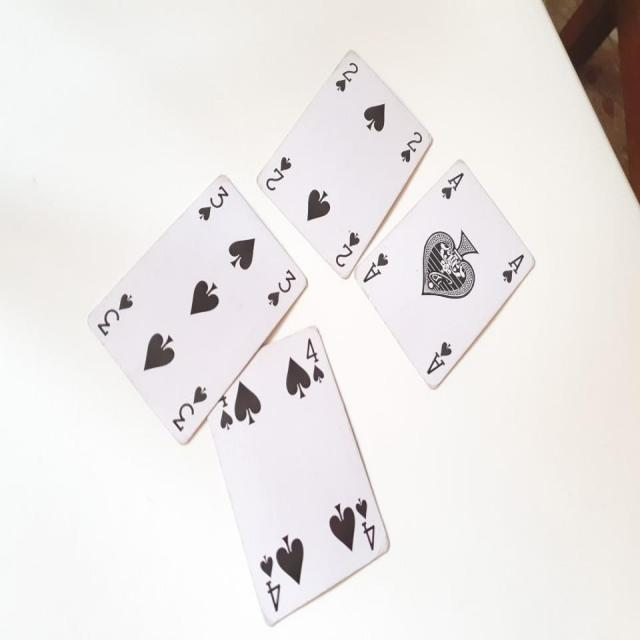2 of spades: (256, 49, 435, 279)
3 of spades: (85, 174, 308, 444)
4 of spades: (215, 330, 391, 626)
ace of spades: (361, 159, 535, 389)
